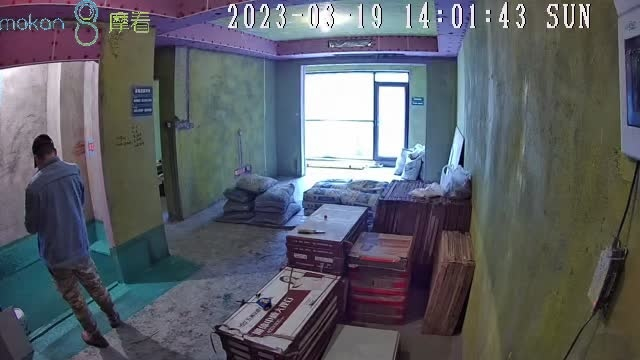people: (23, 134, 121, 347)
window: (305, 72, 408, 164)
